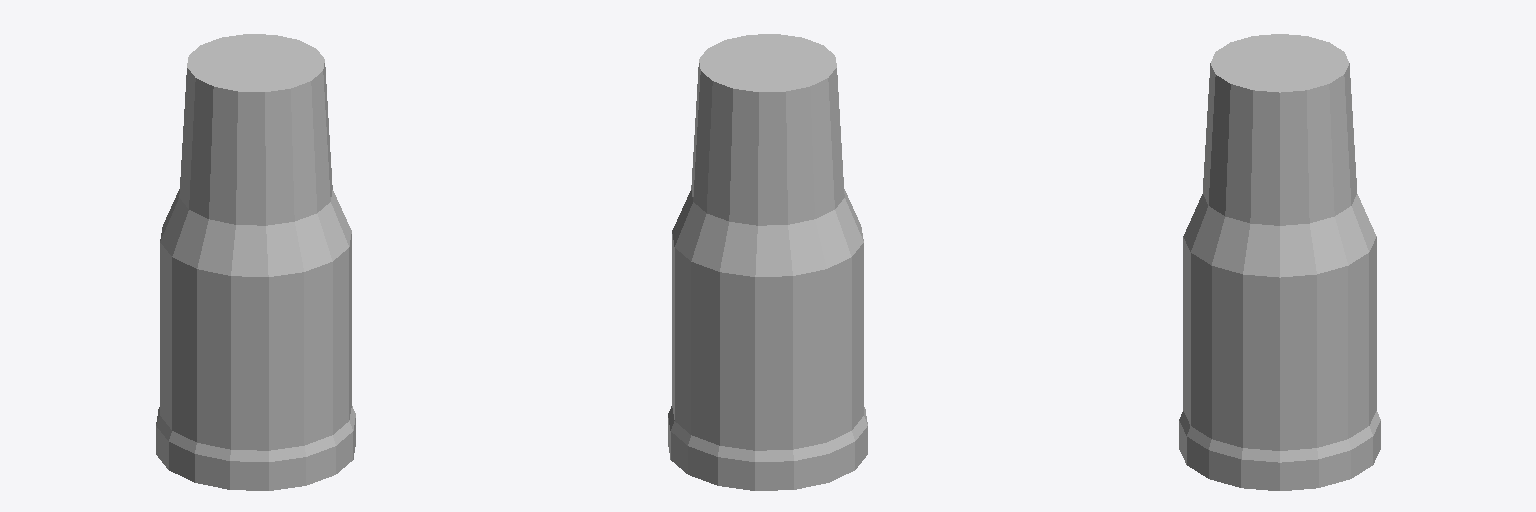
File: fueltank.obj
3 views of the same model, side by side, from view 1: azimuth 30°, elevation 25°; view 2: azimuth 150°, elevation 25°; view 3: azimuth 270°, elevation 25° (orthographic).
Parts seen in each view (by area): view 1: Cylinder.004_Cylinder.007; view 2: Cylinder.004_Cylinder.007; view 3: Cylinder.004_Cylinder.007.
Boxes of the visible parts, x1,y1,x2,y2 form: Cylinder.004_Cylinder.007: [156, 34, 355, 490]; Cylinder.004_Cylinder.007: [668, 34, 867, 490]; Cylinder.004_Cylinder.007: [1179, 34, 1380, 490].
Size of the model in its own units: 1.88 by 3.96 by 1.88.